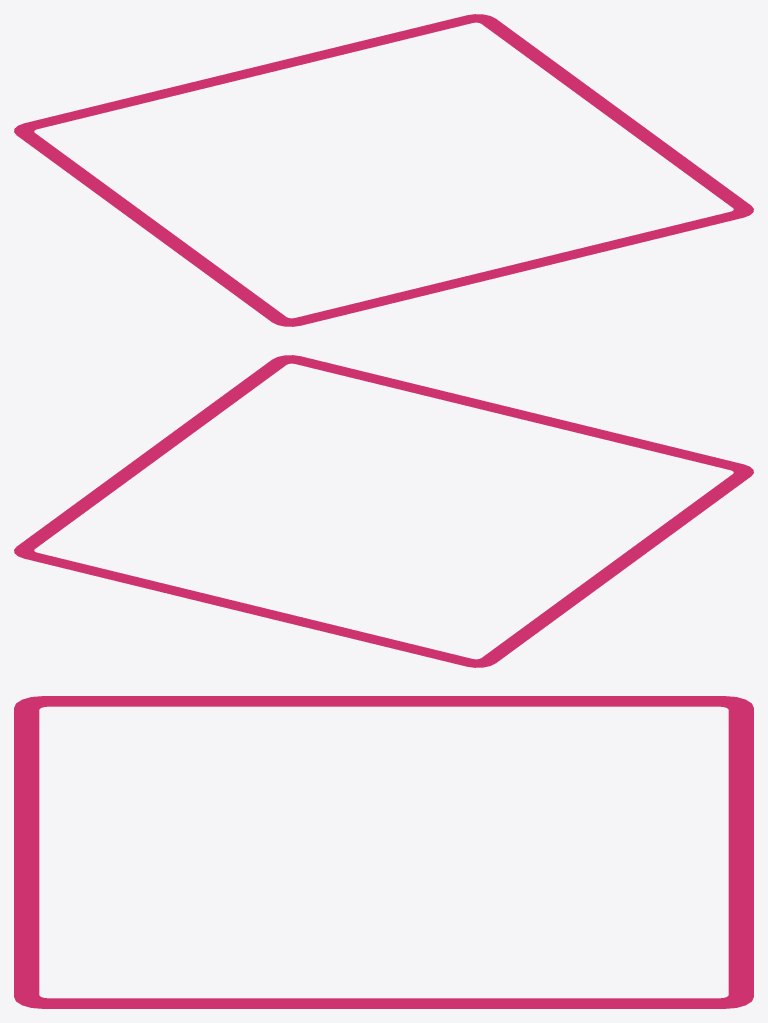
Rendered from borderObject-health.glb.
3 views of the same model, one above another, from view 1: azimuth 30°, elevation 25°; view 2: azimuth 150°, elevation 25°; view 3: azimuth 270°, elevation 25° (orthographic). The views are drawn at different scales.
Parts seen in each view (by area): view 1: borderObject-health; view 2: borderObject-health; view 3: borderObject-health.
Boxes of the visible parts, bbox=[...] form: borderObject-health: bbox=[14, 14, 753, 326]; borderObject-health: bbox=[14, 355, 753, 667]; borderObject-health: bbox=[14, 696, 753, 1008].
Size of the model in its own units: 0.8313 by 0 by 0.8313.
